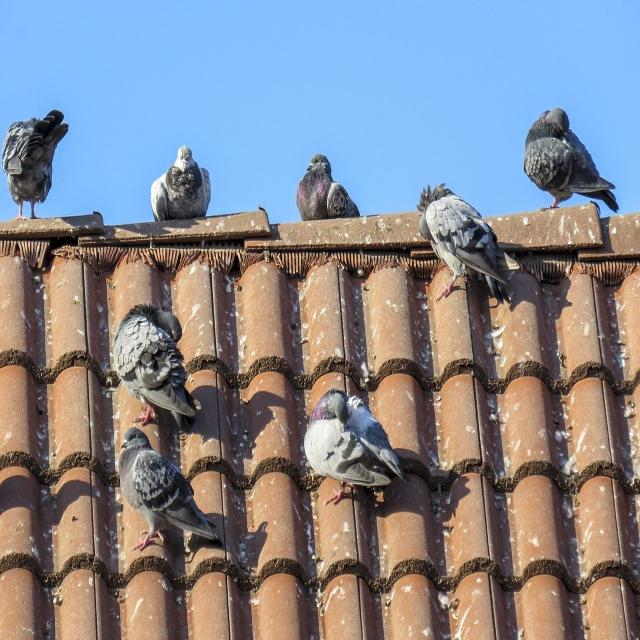bird: (115, 426, 219, 554), (109, 308, 203, 432), (418, 177, 502, 303), (517, 102, 611, 214), (312, 388, 396, 507), (1, 103, 73, 230), (145, 141, 216, 232), (293, 148, 365, 231)
